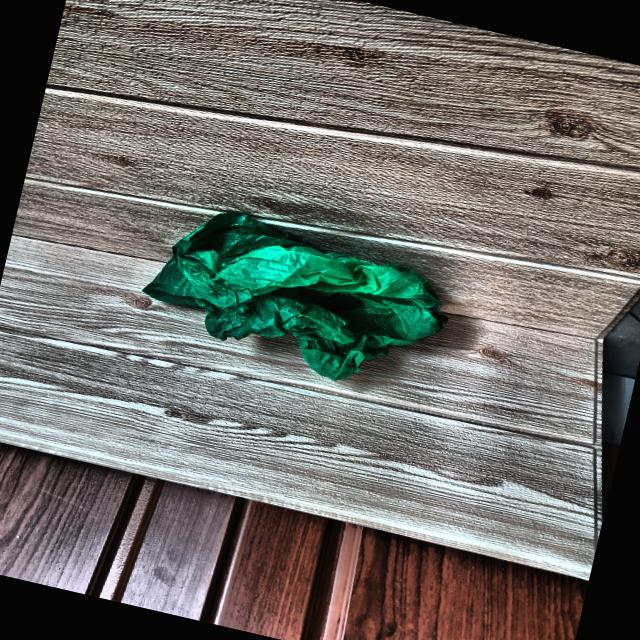plastic bag: (144, 194, 456, 398)
